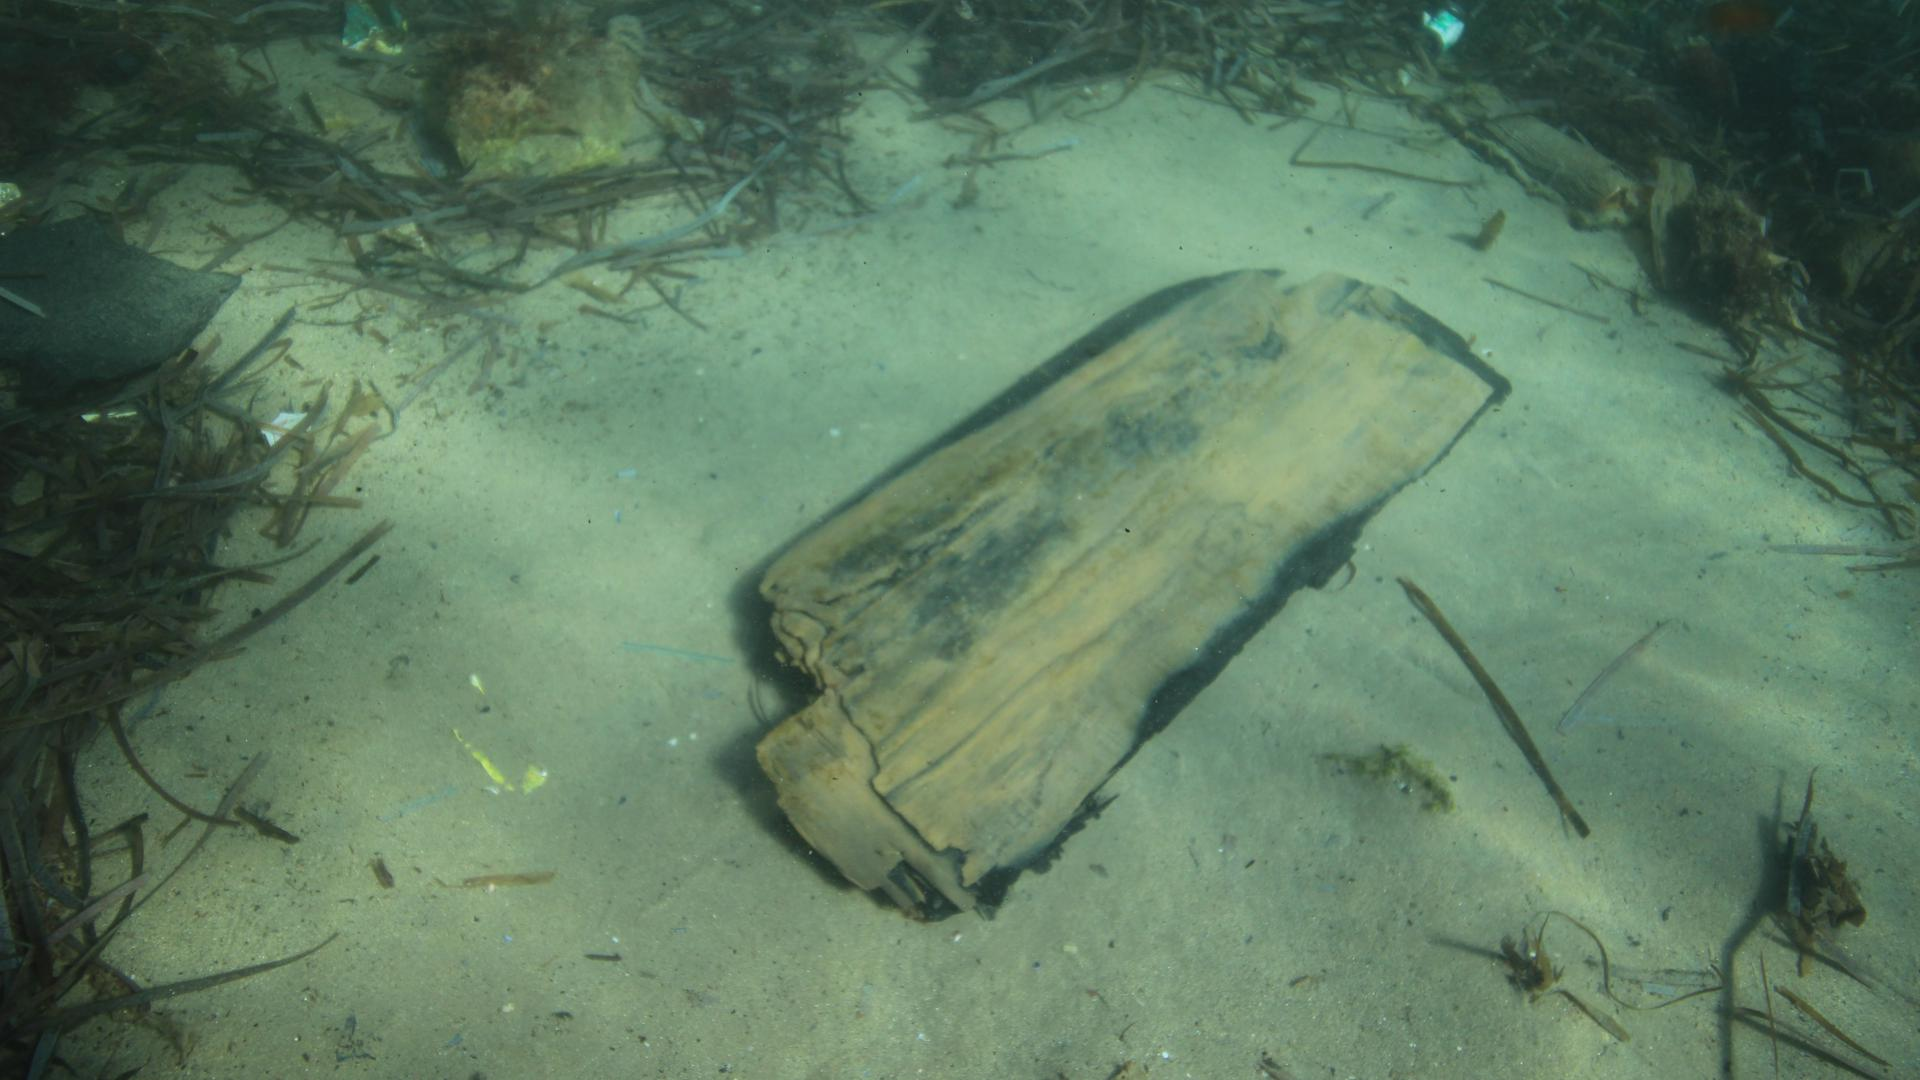wood: (752, 268, 1513, 923)
